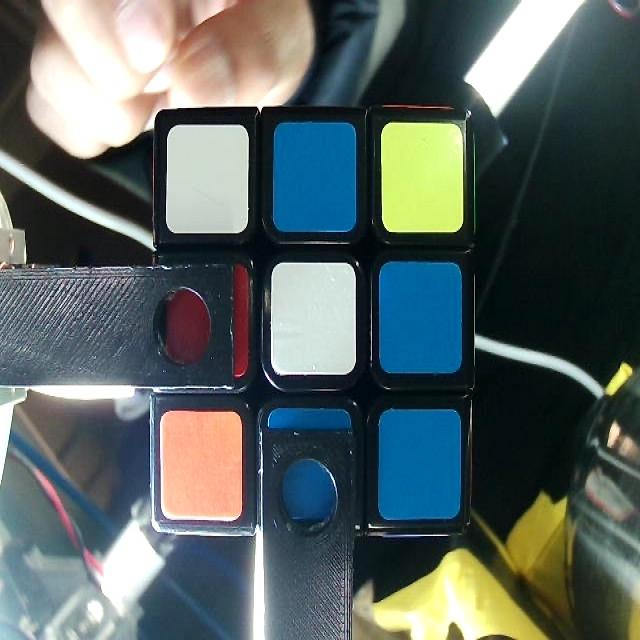b: (270, 410, 352, 520), (382, 410, 461, 518), (380, 264, 460, 369), (277, 126, 353, 226)
o: (161, 413, 243, 520)
r: (164, 273, 244, 378)
w: (272, 264, 353, 374), (168, 126, 246, 228)
y: (383, 123, 464, 231)
